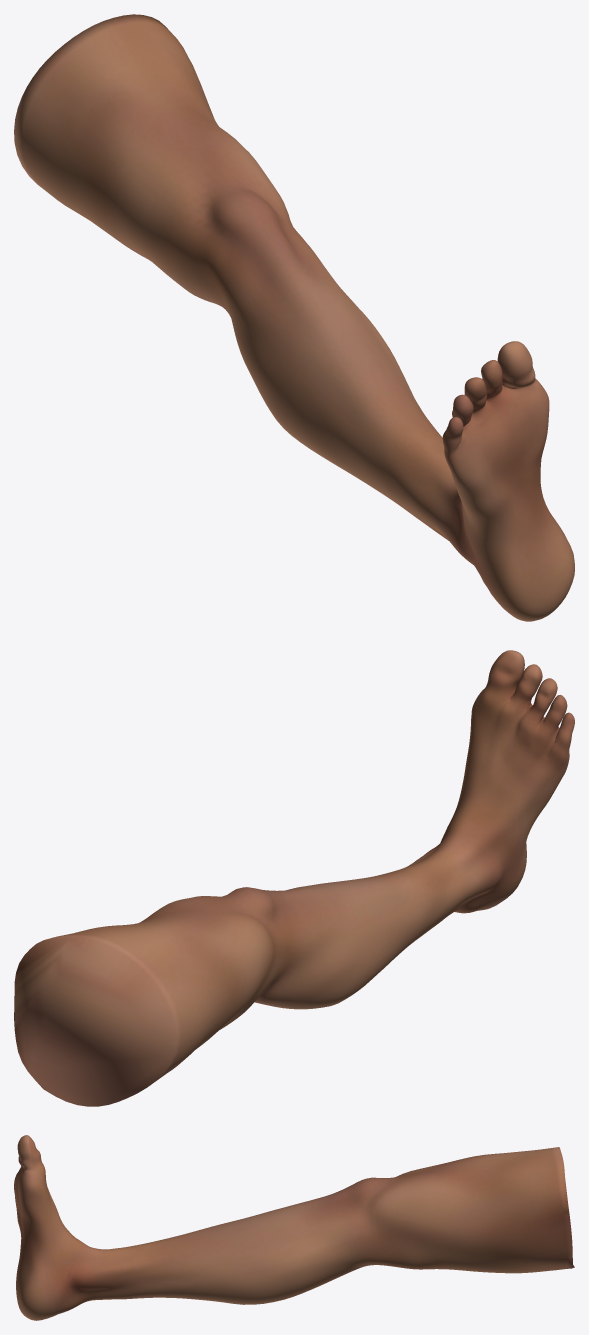
File: right_male_foot.glb
The picture shows the model from 3 angles, top to bottom: view 1: azimuth 30°, elevation 25°; view 2: azimuth 150°, elevation 25°; view 3: azimuth 270°, elevation 25°; orthographic projection. The views are drawn at different scales.
Parts seen in each view (by area): view 1: _gltfNode_0; view 2: _gltfNode_0; view 3: _gltfNode_0.
Boxes of the visible parts, x1,y1,x2,y2 form: _gltfNode_0: (14,14,574,621); _gltfNode_0: (14,650,574,1106); _gltfNode_0: (14,1135,574,1320).
Bounding box in the file's own units: 18.8 × 28.97 × 84.2.
Materials: 1 (1 with a texture image).
